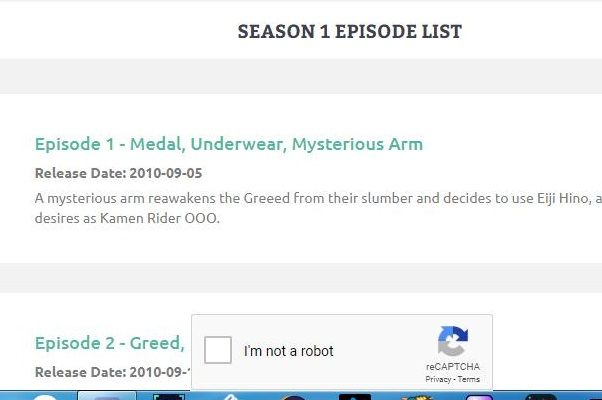captcha: (204, 336, 337, 364)
